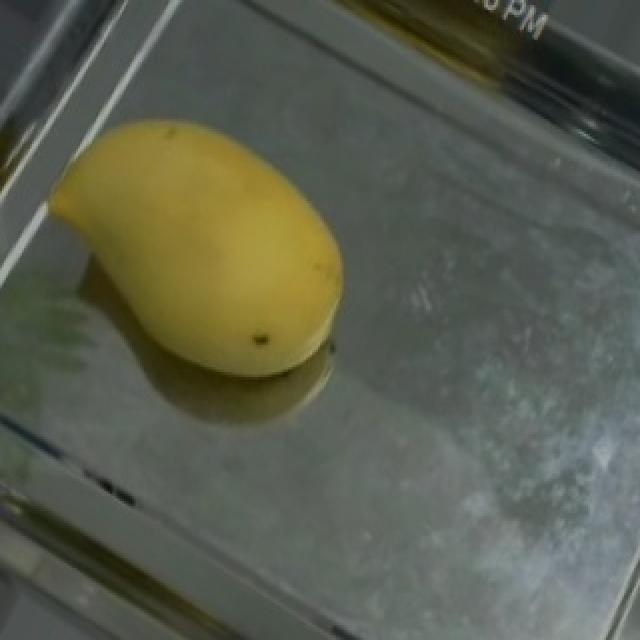fruit: (40, 67, 426, 439)
